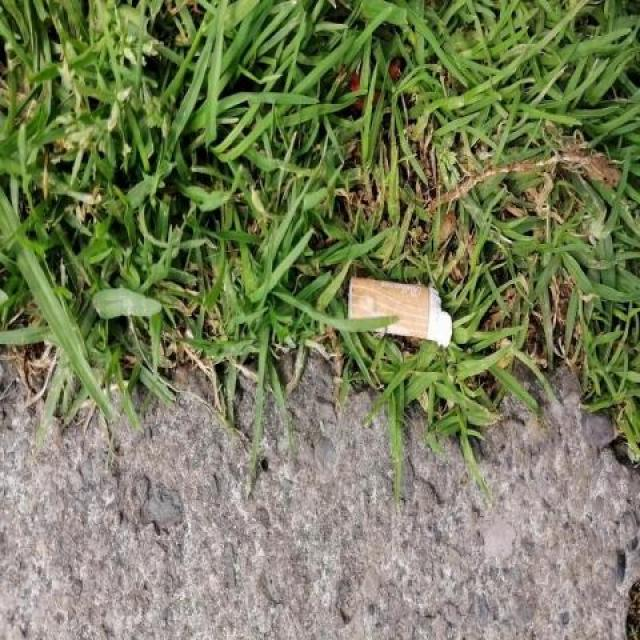non-organic waste: (343, 274, 456, 351)
